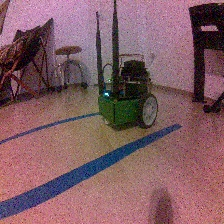rob: (97, 58, 158, 129)
